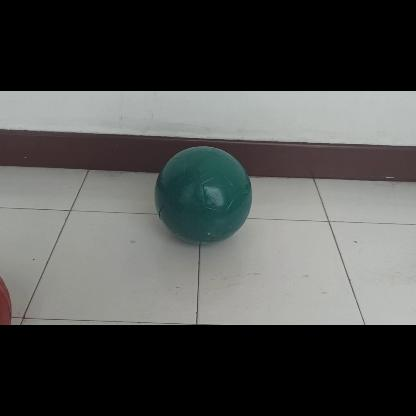green_ball: (152, 144, 250, 242)
